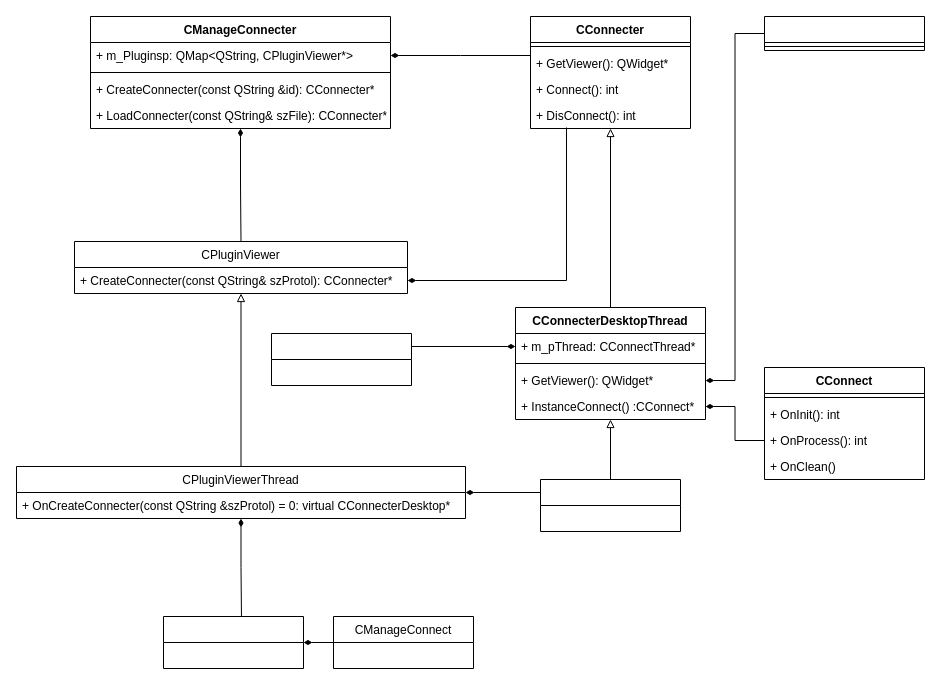
Image size: 941x685. Some labels were removed from this diagram. The shapes that lost their labels are listed below. From the top down, each one's centre as x and y in pixels, then its label:
(x=844, y=33): CFrmViewer
(x=341, y=359): CConnectThread
(x=610, y=505): CConnecterDesktop
(x=233, y=642): CPluginThread
